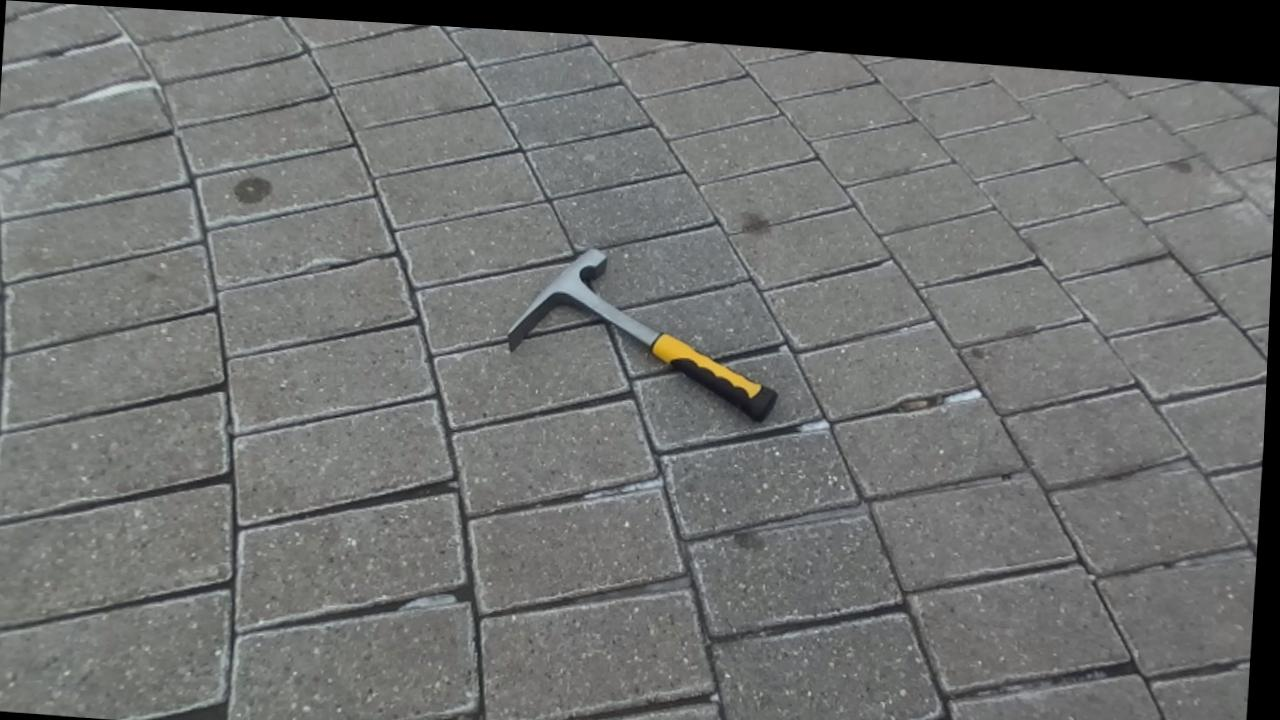pick: (509, 249, 777, 420)
